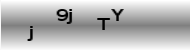9: (55, 8, 68, 21)
T: (96, 16, 112, 31)
Y: (110, 7, 124, 21)
j: (26, 25, 34, 42), (66, 7, 72, 26)
